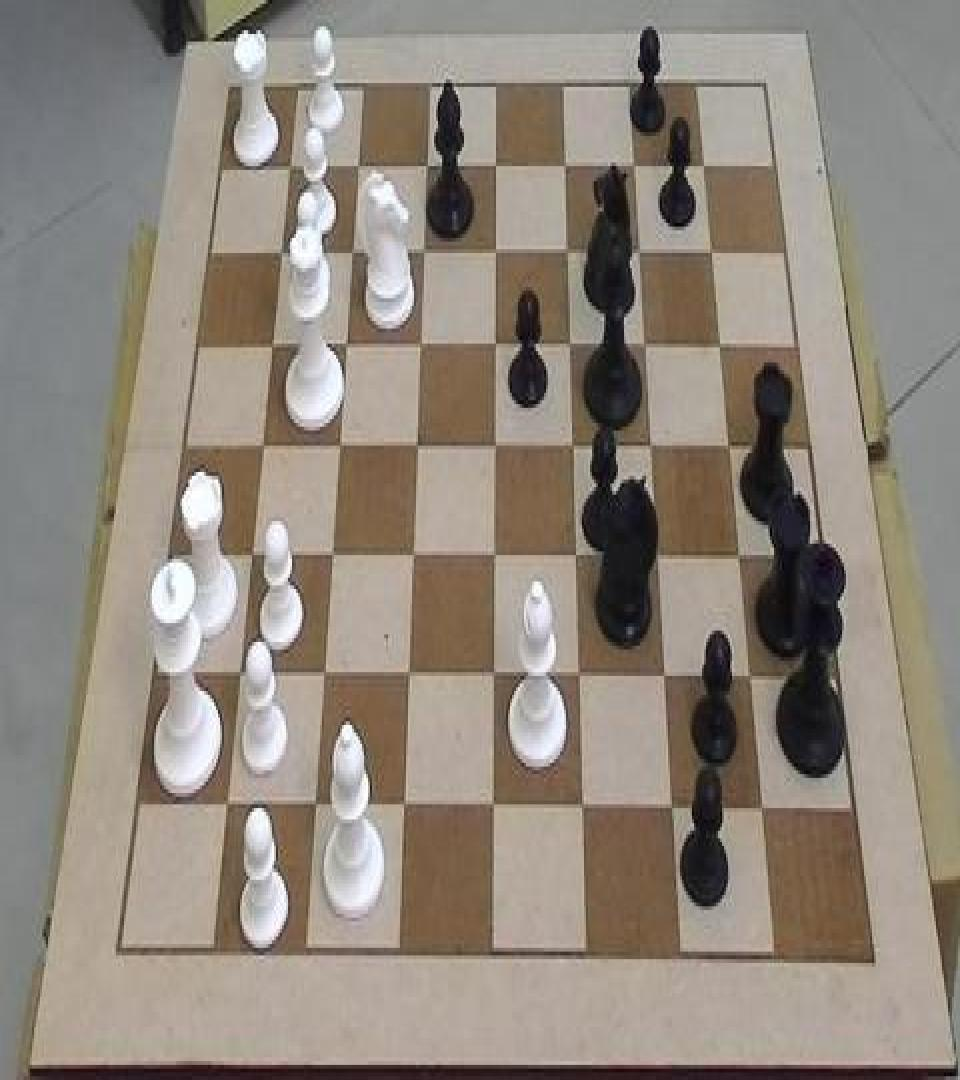xcorner: (693, 146, 713, 184), (623, 146, 643, 184), (554, 147, 574, 185), (484, 147, 504, 185), (415, 149, 435, 187), (347, 149, 367, 187), (278, 151, 298, 189), (701, 232, 721, 270), (629, 232, 649, 270), (556, 232, 576, 270), (484, 234, 504, 272), (412, 234, 432, 272), (341, 236, 361, 274), (270, 236, 290, 274), (710, 324, 730, 362), (634, 324, 654, 362), (559, 324, 579, 362), (484, 326, 504, 364), (409, 326, 429, 364), (335, 326, 355, 364), (261, 328, 281, 366), (720, 426, 740, 464), (640, 426, 660, 464), (561, 426, 581, 464), (483, 426, 503, 464), (405, 426, 425, 464), (328, 426, 348, 464), (251, 426, 271, 464), (730, 536, 750, 574), (647, 536, 667, 574), (565, 536, 585, 574), (483, 536, 503, 574), (401, 536, 421, 574), (320, 536, 340, 574), (240, 536, 260, 574), (741, 657, 761, 695), (654, 657, 674, 695), (568, 657, 588, 695), (482, 657, 502, 695), (397, 655, 417, 693), (312, 655, 332, 693), (228, 655, 248, 693), (753, 791, 773, 829), (662, 789, 682, 827), (572, 789, 592, 827), (482, 787, 502, 825), (392, 787, 412, 825), (304, 786, 324, 824), (215, 786, 235, 824)
